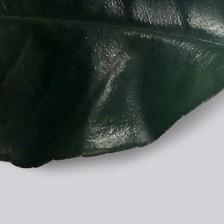healthy: (3, 2, 201, 140)
